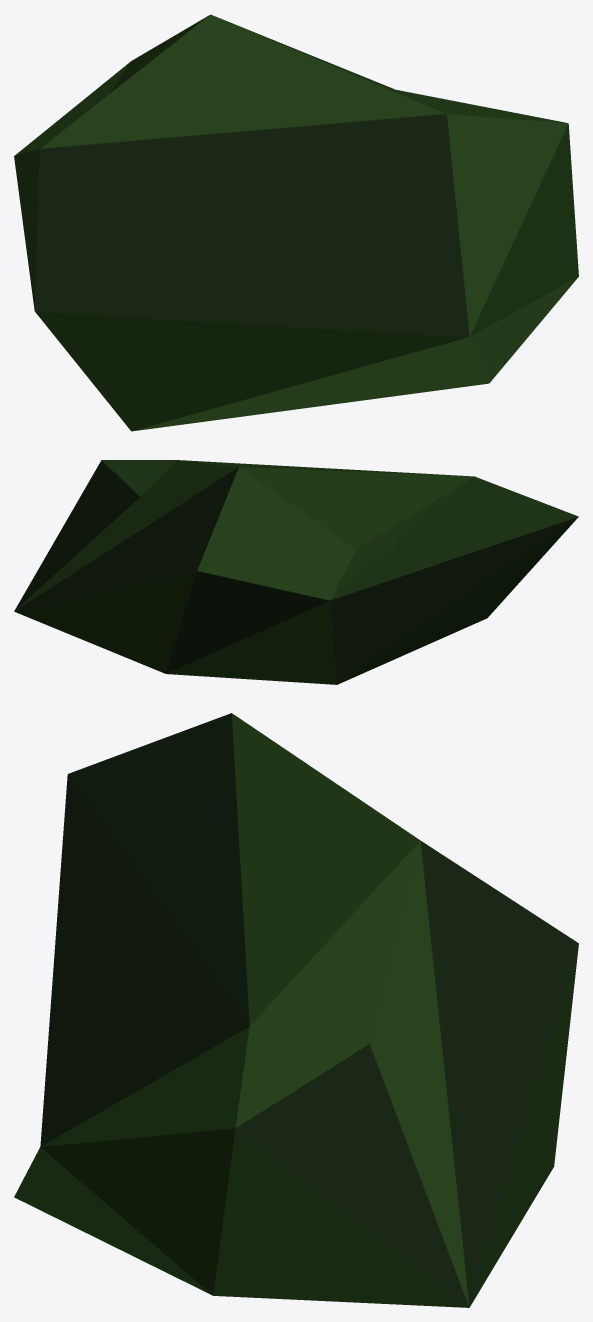
Rendered from Plant_M2_2.fbx.
3 renders of one model, top to bottom at view 1: azimuth 30°, elevation 25°; view 2: azimuth 150°, elevation 25°; view 3: azimuth 270°, elevation 25°, orthographic. The views are drawn at different scales.
Parts seen in each view (by area): view 1: Plant_M2_2; view 2: Plant_M2_2; view 3: Plant_M2_2.
Boxes of the visible parts, x1,y1,x2,y2 form: Plant_M2_2: [14, 14, 578, 431]; Plant_M2_2: [14, 460, 578, 684]; Plant_M2_2: [14, 713, 578, 1307].
Bounding box in the file's own units: 144 × 57.73 × 98.29.
